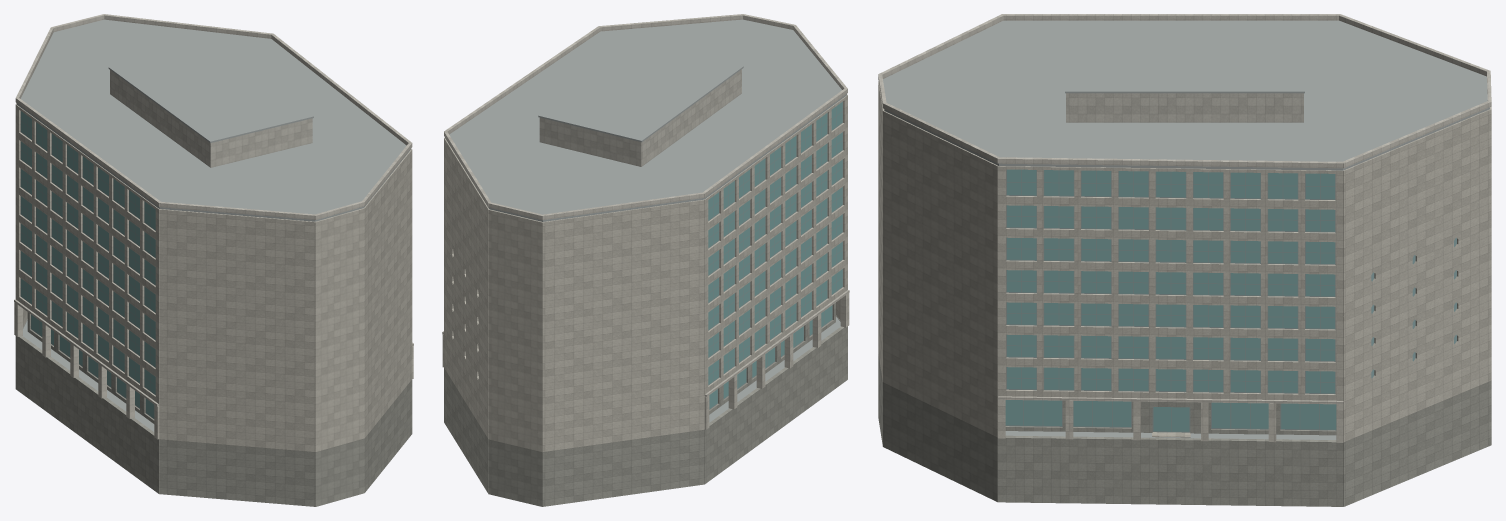
3 renders of one model, left to right at view 1: azimuth 30°, elevation 25°; view 2: azimuth 150°, elevation 25°; view 3: azimuth 270°, elevation 25°, orthographic. The views are drawn at different scales.
Parts seen in each view (by area): view 1: w1__stone, w1__roof, w1__reveal, w1__glass, w1__crown, w1__core, w1__frame, w1__piers; view 2: w1__stone, w1__roof, w1__reveal, w1__glass, w1__crown, w1__core, w1__frame, w1__piers; view 3: w1__stone, w1__roof, w1__glass, w1__reveal, w1__frame, w1__crown, w1__core, w1__piers.
Part boxes in pixels (box(x1,y1,x2,y2)): w1__stone: box(15, 103, 412, 451); w1__roof: box(16, 19, 411, 431); w1__reveal: box(15, 312, 412, 506); w1__glass: box(21, 111, 155, 418); w1__crown: box(14, 14, 413, 406); w1__core: box(110, 70, 312, 167); w1__frame: box(20, 111, 155, 418); w1__piers: box(14, 302, 413, 439); w1__stone: box(444, 94, 847, 452); w1__roof: box(445, 19, 846, 422); w1__reveal: box(444, 303, 847, 506); w1__glass: box(708, 102, 842, 408); w1__crown: box(442, 14, 849, 396); w1__core: box(539, 69, 741, 166); w1__frame: box(708, 102, 842, 409); w1__piers: box(442, 293, 849, 429); w1__stone: box(878, 82, 1491, 441); w1__roof: box(883, 20, 1489, 439); w1__glass: box(1005, 169, 1336, 431); w1__reveal: box(878, 354, 1491, 506); w1__frame: box(1005, 169, 1336, 432); w1__crown: box(878, 14, 1491, 404); w1__core: box(1066, 93, 1303, 122); w1__piers: box(998, 400, 1343, 442).
Bounding box in the file's own units: 36.16 × 41.24 × 61.88.
10 materials, 6 textured.
